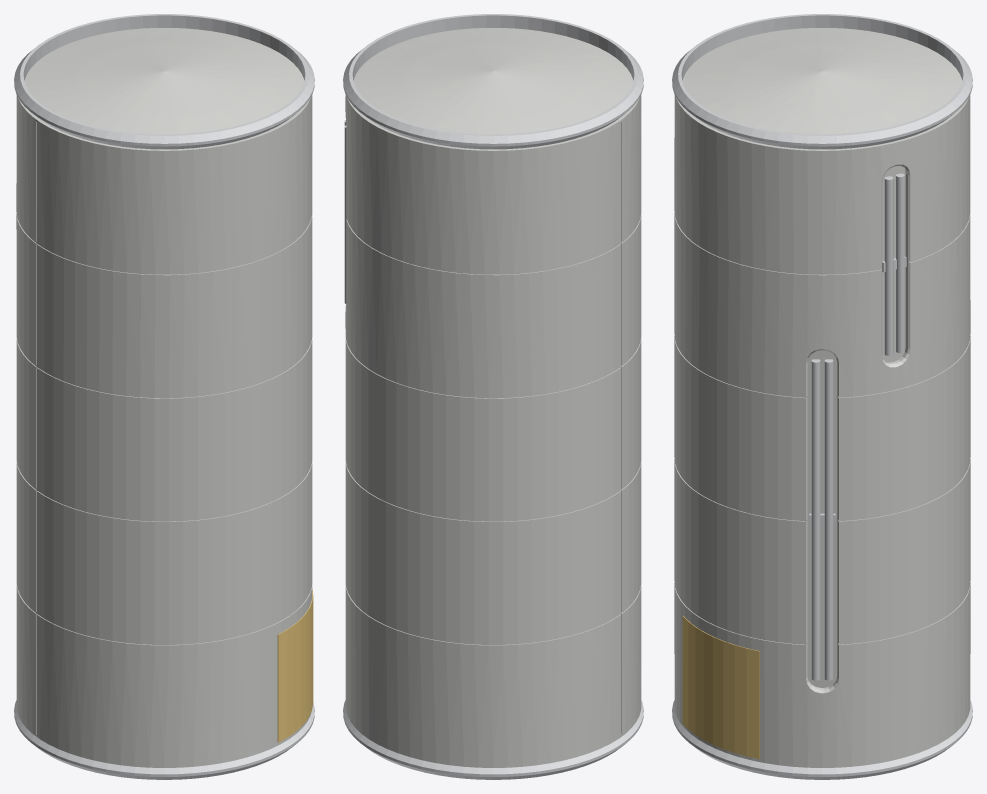
File: ax_tank_01_modern_methalox_m_long.glb
3 renders of one model, left to right at view 1: azimuth 30°, elevation 25°; view 2: azimuth 150°, elevation 25°; view 3: azimuth 270°, elevation 25°, orthographic.
Parts seen in each view (by area): view 1: tank_barrel, dome_caps, end_rings, mli_patch; view 2: tank_barrel, dome_caps, end_rings, raceway_lines; view 3: tank_barrel, dome_caps, end_rings, raceway_lines, mli_patch.
Boxes of the visible parts, bbox=[...] form: tank_barrel: bbox=[16, 95, 312, 767]; dome_caps: bbox=[24, 25, 304, 134]; end_rings: bbox=[14, 14, 314, 779]; mli_patch: bbox=[277, 589, 313, 742]; tank_barrel: bbox=[345, 95, 641, 767]; dome_caps: bbox=[353, 25, 633, 134]; end_rings: bbox=[343, 14, 643, 779]; raceway_lines: bbox=[344, 120, 346, 303]; tank_barrel: bbox=[674, 95, 970, 767]; dome_caps: bbox=[682, 25, 962, 134]; end_rings: bbox=[672, 14, 972, 779]; raceway_lines: bbox=[809, 173, 906, 680]; mli_patch: bbox=[682, 616, 759, 759].
Bounding box in the file's own units: 2.54 × 6.07 × 2.54.
